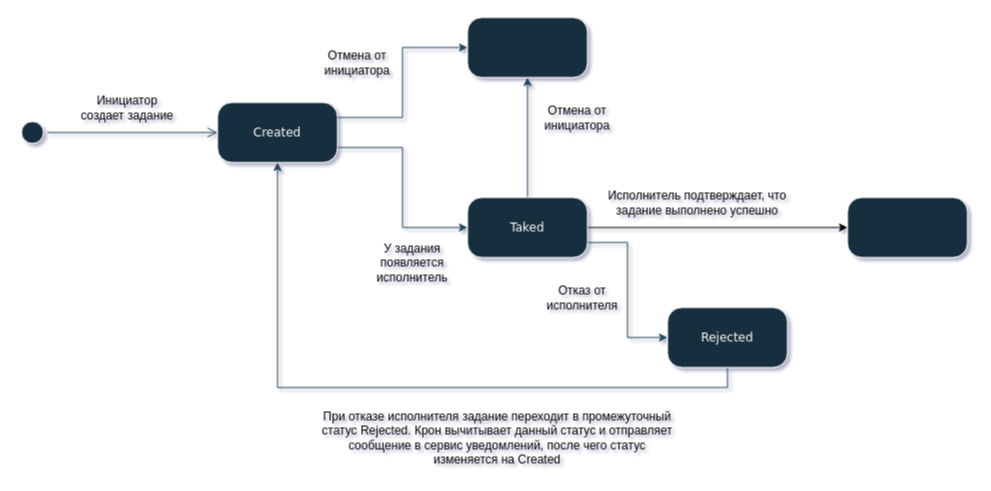
Some shapes in this 991 by 491 pixel diagram are drawn without their labels. Here are the shapes that lost their labels. From the top down, the centre of each, then its label:
point (527, 47): Cancelled
point (907, 227): Done
